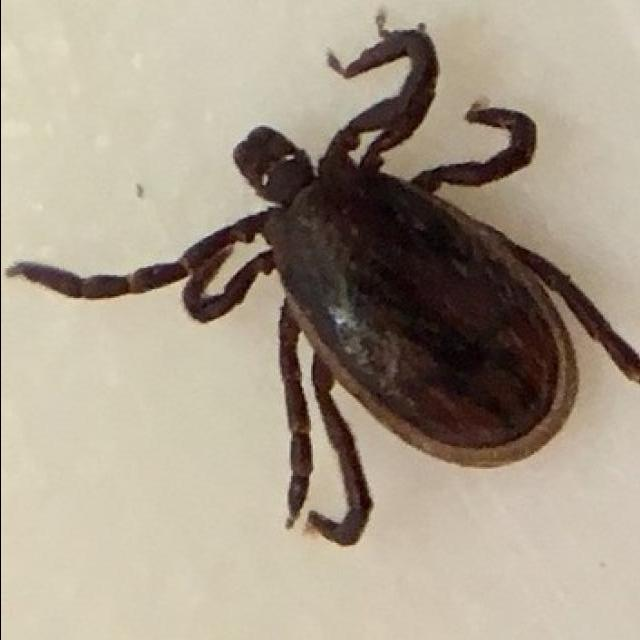Ixodes Ricinus-M: (5, 23, 640, 550)
